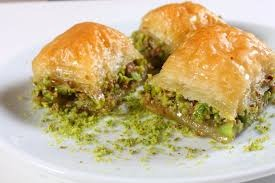baklava: (146, 23, 274, 143), (31, 19, 150, 114), (134, 0, 224, 69)
